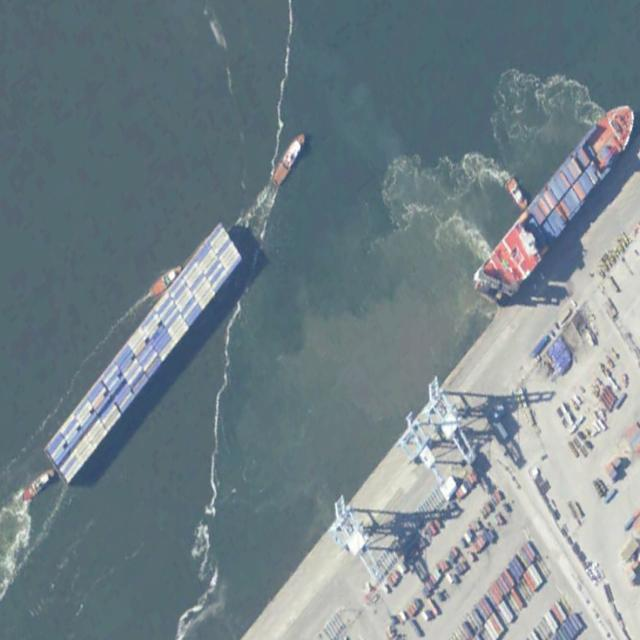Cargo: (468, 88, 640, 322)
Container Ship: (43, 222, 243, 487)
Other Ship: (270, 127, 308, 188), (19, 467, 57, 506), (149, 263, 184, 297), (504, 174, 530, 211)
